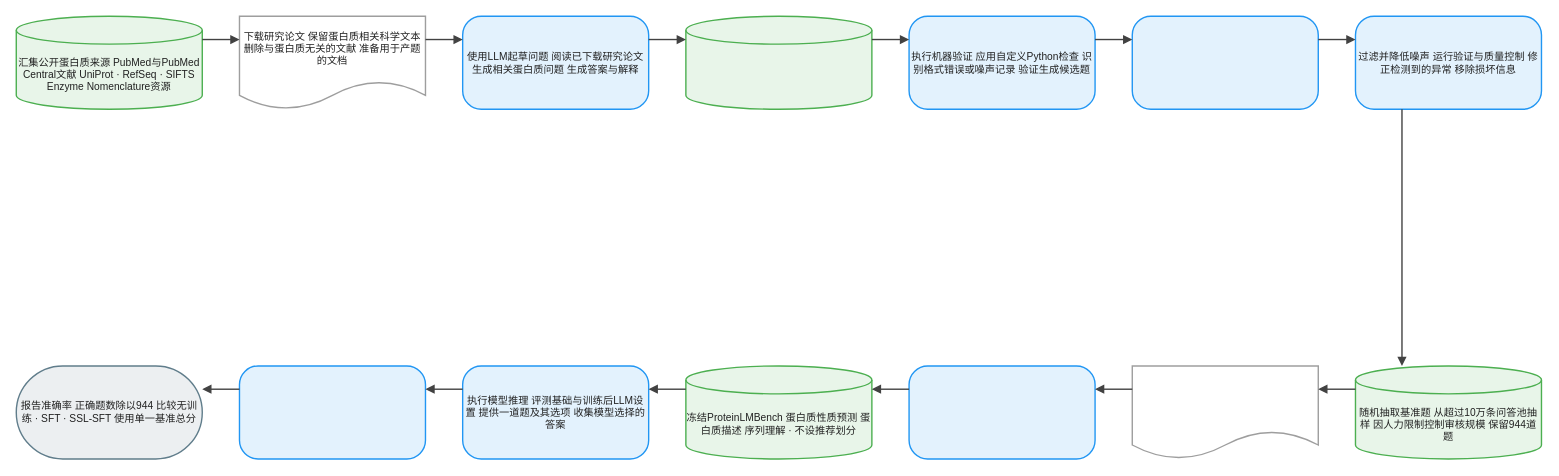
Image size: 1559x476. Some labels were removed from this diagram. Here are the shapes that lost their labels. From the top down, the centre of each, then its label:
At point 778,62: "构建候选问答池 汇总蛋白质相关问答对 覆盖知识与序列推理 形成超过10万条问答对".
At point 1225,62: "执行人工验证 论文作者审核候选题 检查问题和答案正确性 人工标注保留题目".
At point 332,412: "对照标准答案 规范化模型选择的选项 逐题标记正确或错误 聚合全部944道题".
At point 1001,412: "以六选一为目标格式 平衡正确选项位置 覆盖选项1至选项6 保留论文报告的统计口径".
At point 1225,412: "格式化每条评测样例 保存问题与答案选项 保存正确选项 附带正确答案解释".
